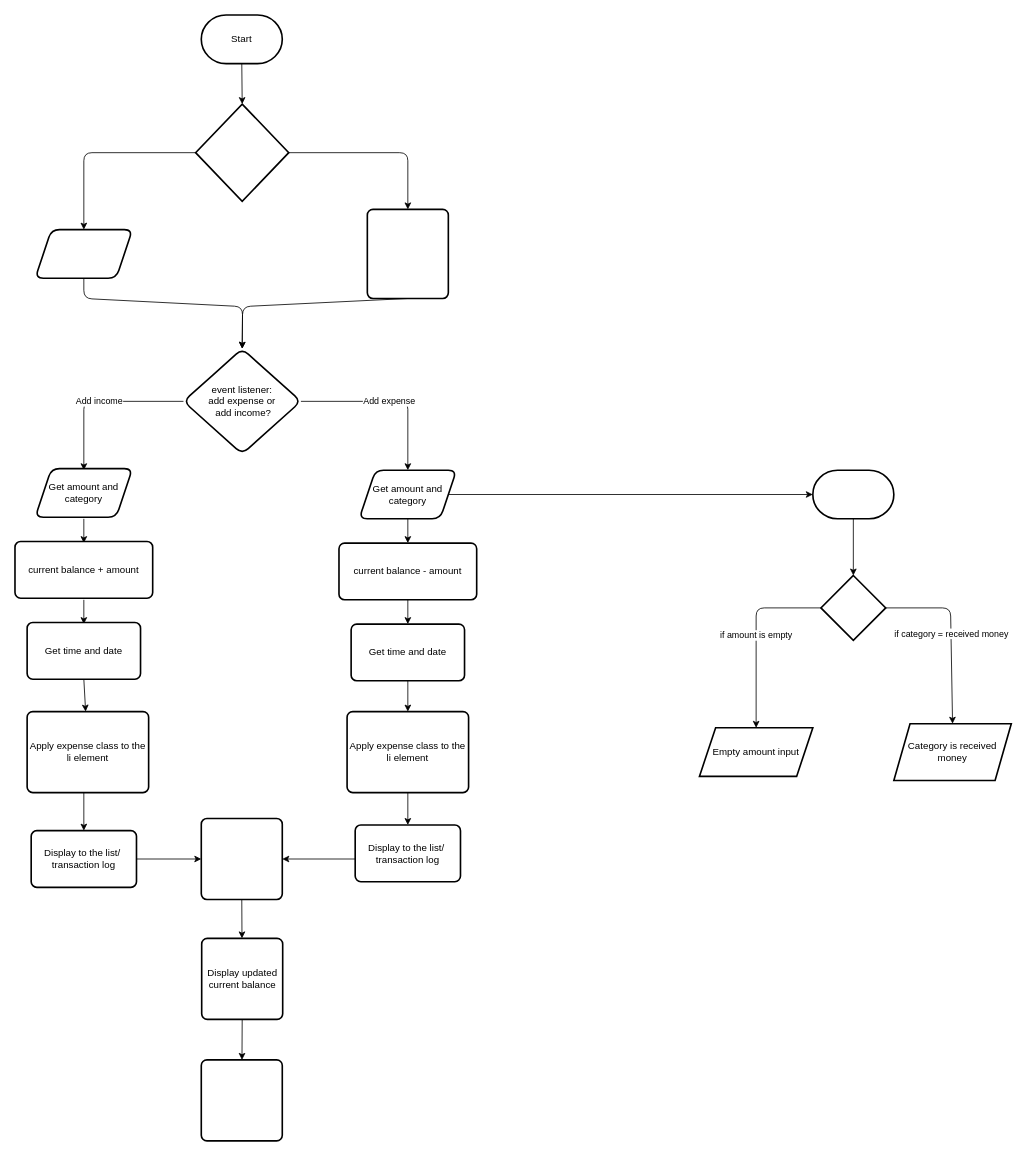
Image size: 1025x1155. Some labels were removed from this diagram. Each missing label, with the box of its shape:
Current balance vairable: (34, 228, 133, 279)
Error handling for expense input: (812, 469, 894, 519)
Has saved data?: (194, 103, 289, 202)
input errors: (820, 574, 886, 641)
Retrieve previuosly saved transaction logs and current balance and display it: (366, 208, 449, 299)
Save the transaction log to the local storage: (200, 817, 283, 900)
Save updated current balance value to the local storage: (200, 1059, 283, 1141)
